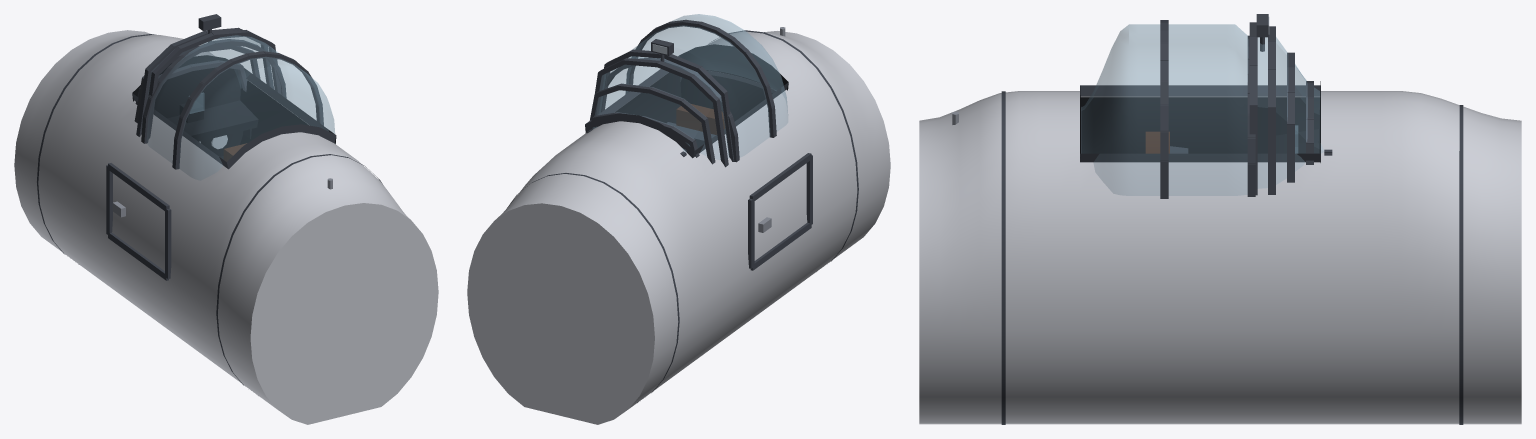
Rendered from cockpit_spitfire.glb.
3 views of the same model, side by side, from view 1: azimuth 30°, elevation 25°; view 2: azimuth 150°, elevation 25°; view 3: azimuth 270°, elevation 25° (orthographic). The views are drawn at different scales.
Parts seen in each view (by area): view 1: cockpit_spitfire, cockpit_spitfire_Glas; view 2: cockpit_spitfire, cockpit_spitfire_Glas; view 3: cockpit_spitfire, cockpit_spitfire_Glas.
Boxes of the visible parts, x1,y1,x2,y2 form: cockpit_spitfire: [14, 14, 438, 424]; cockpit_spitfire_Glas: [134, 27, 335, 180]; cockpit_spitfire: [467, 27, 890, 424]; cockpit_spitfire_Glas: [586, 14, 788, 167]; cockpit_spitfire: [919, 14, 1521, 424]; cockpit_spitfire_Glas: [1081, 20, 1332, 198].
Bounding box in the file's own units: 1.18 × 1.75 × 2.5.
